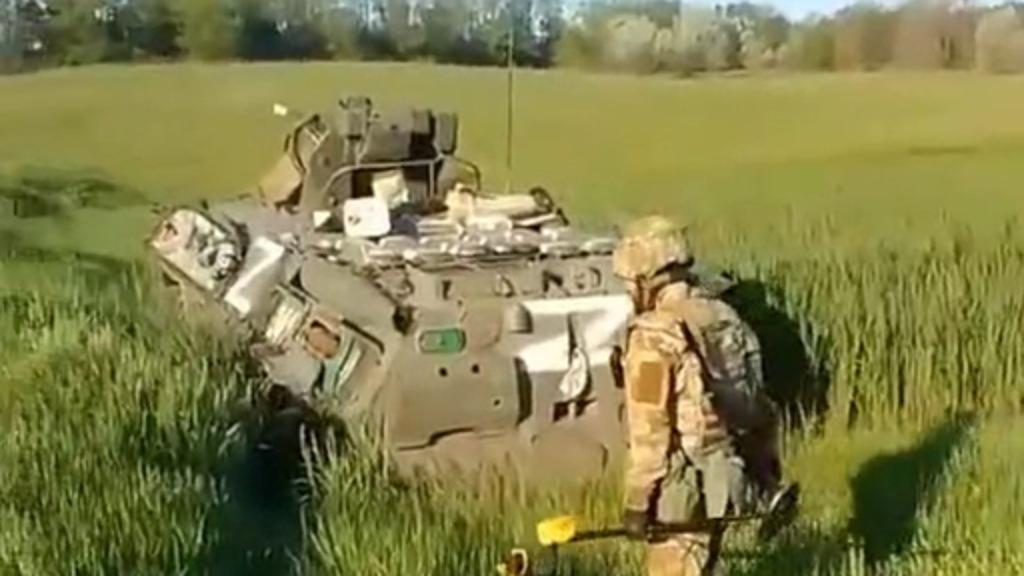APC-IFV: (128, 80, 704, 500)
